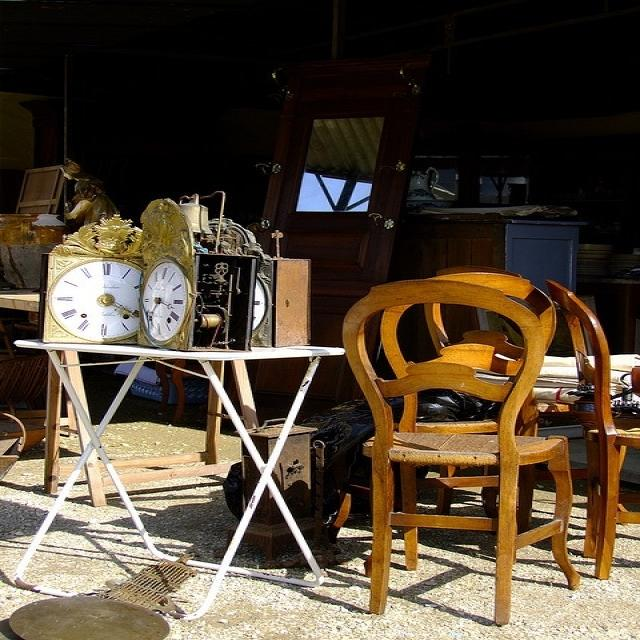E-waste: (35, 203, 328, 345)
